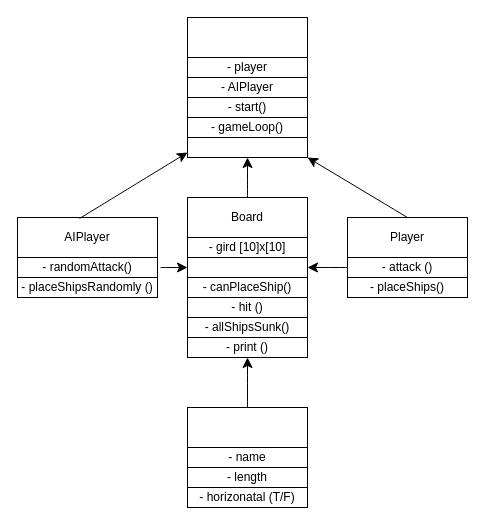
Some shapes in this 485 by 525 pixel diagram are drawn without their labels. The shapes that lost their labels are listed below. From the top down, each one's centre as x and y in pixels, then its label:
At point 247,37: "Game".
At point 247,147: "- checkWinner()".
At point 247,267: "- placeShip()".
At point 247,427: "ShipDef".
